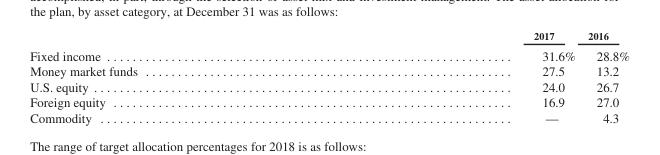table: (29, 29, 629, 124)
table column: (29, 29, 334, 124), (334, 29, 581, 124), (581, 29, 629, 124)
table column header: (29, 29, 629, 44)
table row: (29, 44, 629, 62), (29, 62, 629, 78), (29, 93, 629, 109), (29, 29, 629, 44), (29, 78, 629, 93), (29, 109, 629, 124)
